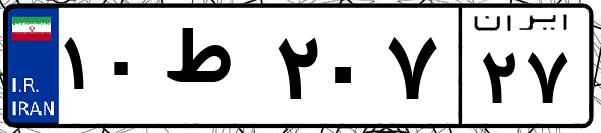0: (330, 28, 385, 110), (110, 28, 158, 98)
1: (57, 26, 110, 100)
2: (270, 28, 330, 110), (475, 38, 525, 113)
7: (385, 28, 445, 110), (525, 38, 570, 115)
ط: (158, 20, 270, 120)
